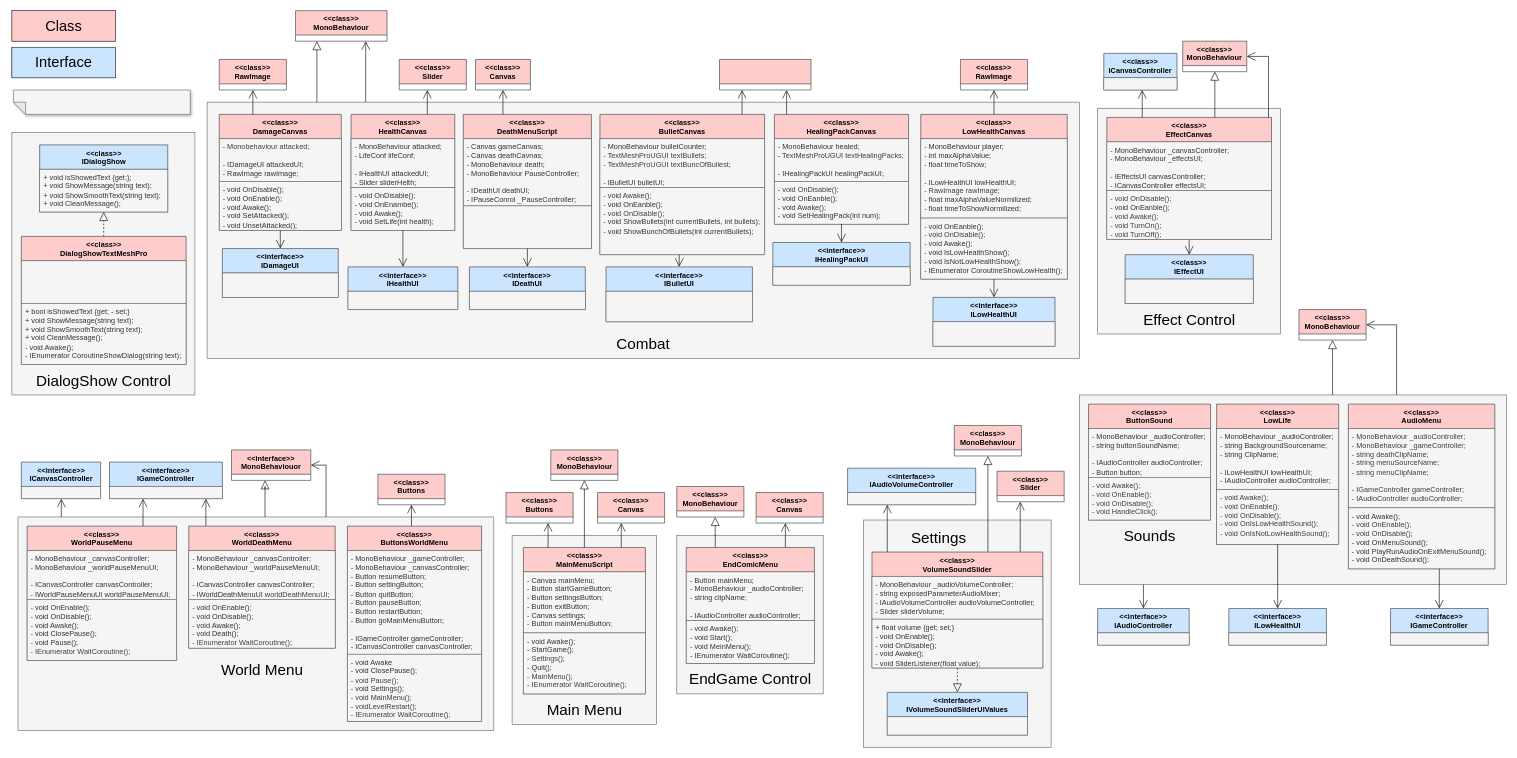
This 1517x758 diagram has some shape labels left out. Here are the shapes that lost their labels. From the top down, the centre of each, then its label:
[765,74]: <<class>> TextMeshProUGUI
[102,103]: Object dont know about UI Is the reason why used only event Action
[527,227]: - void OnDisable(); - void OnEanble(); - void Awake(); - void Death();
[103,281]: - float timeShowText; - TextMeshProUGUI textDialog; - Coroutine coroutine;
[280,284]: + event Action OnSetAttacked; +event Action OnUnsetAttacked;
[841,275]: + event Action<int> OnSetHealngPacks;
[1189,290]: + event Action OnEnableEffect; + event Action OnDisableEffect;
[402,300]: + event Action<int> OnSetLife;
[527,300]: + event Action<int> OnDeath;
[678,306]: + event Action<int, int> OnSetBullet; + event Action<int> OnSetBunchOfBullets;
[993,333]: + event Action OnIsLowHealth; + event Action OnIsNotLowHealth;
[957,725]: + float volume {get; set;}
